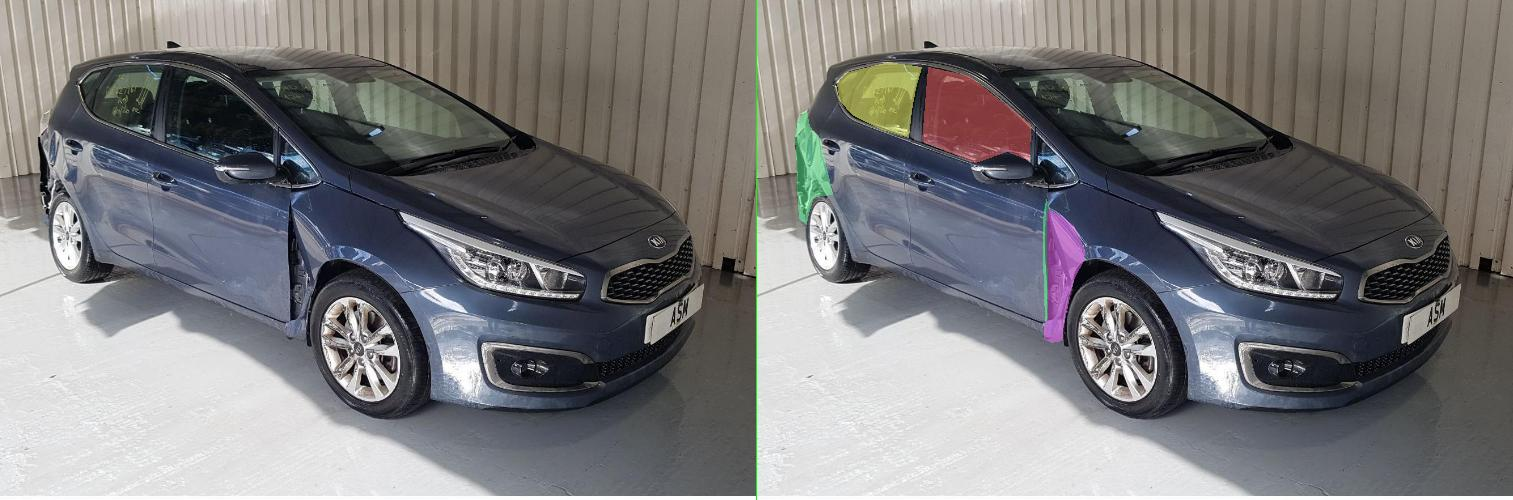Broken part: (76, 110, 150, 224), (572, 199, 628, 328)
Cracked: (160, 62, 328, 137)
Dent: (574, 209, 654, 342)
Missing part: (330, 67, 546, 162)
